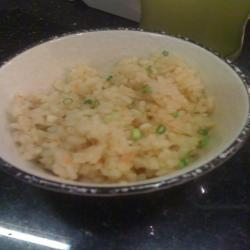rice: (20, 52, 210, 188)
